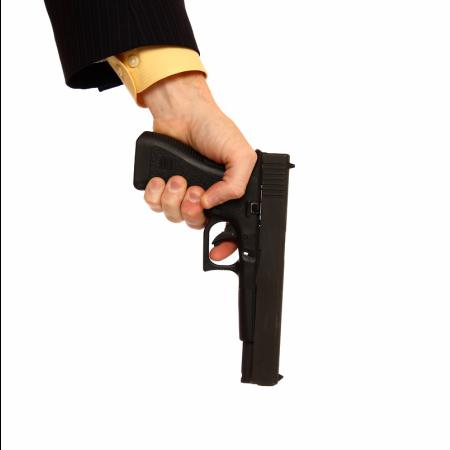Pistol: (130, 130, 304, 390)
